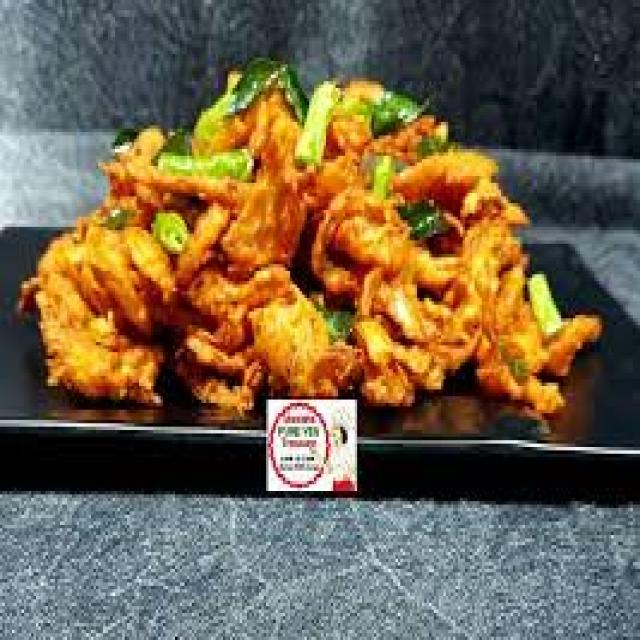BAJI: (41, 79, 591, 422)
